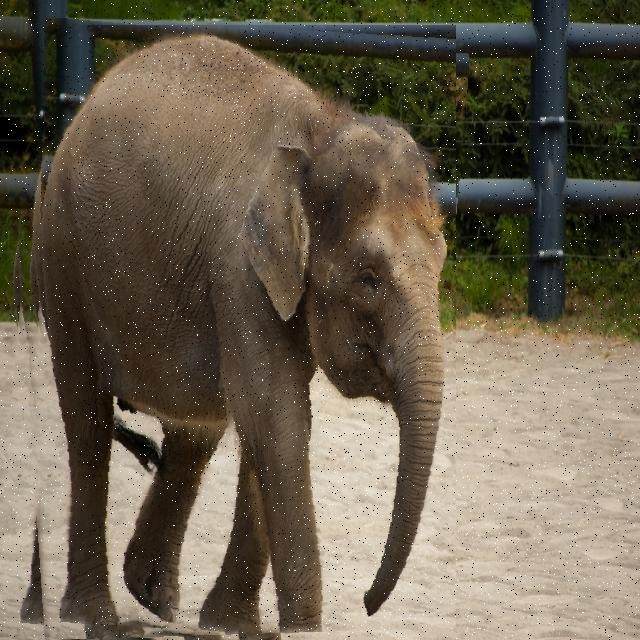elephant: (4, 25, 456, 640)
